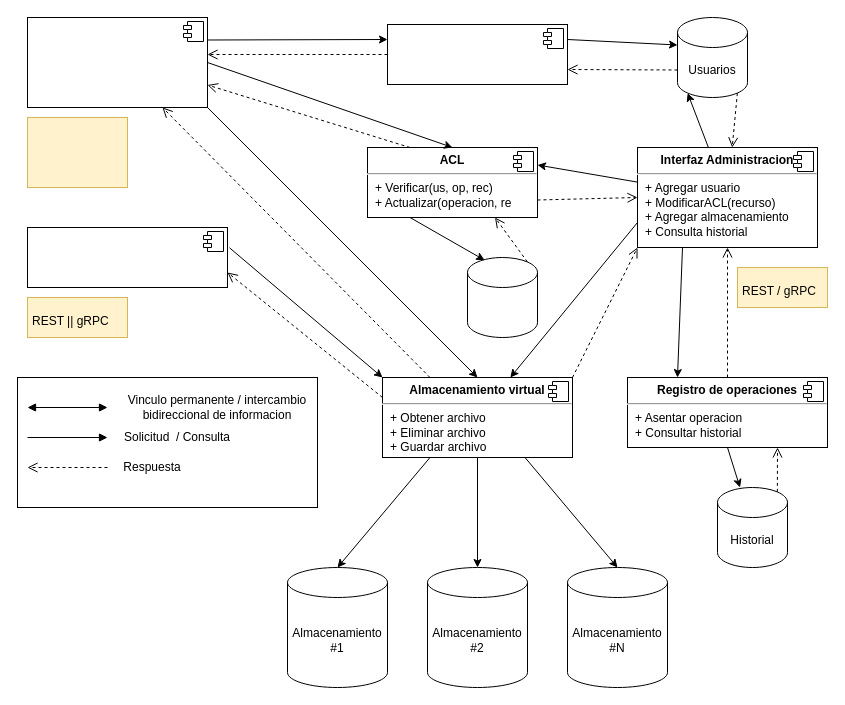
The diagram is 845 pixels wide and 705 high, and some of its shapes have lost their labels. The shapes that lost their labels are listed below. From the top down, each one's centre as x and y in pixels, then its label:
the point at 117,62: Interfaz para clientes + Descargar archivo + Guardar archivo + Borrar archivo
the point at 477,54: Manejo de sesiones + Autenticar
the point at 77,152: AS2 || SFTP + Auth con PK ?
the point at 127,257: Interfaz para S. Indexado + Listar Archivos para usuario
the point at 502,297: Permisos
